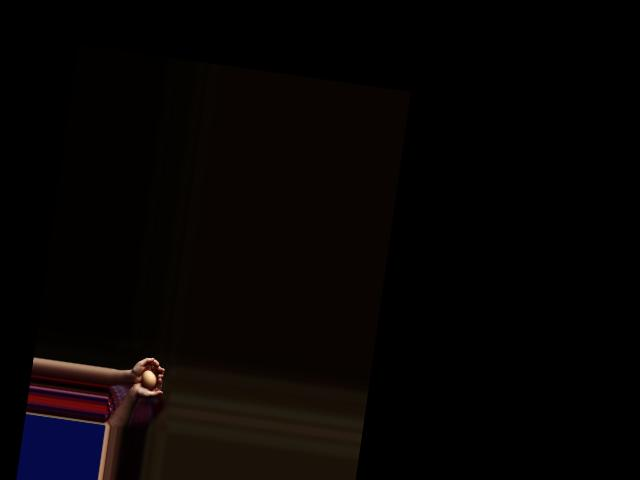egg: (141, 370, 158, 390)
